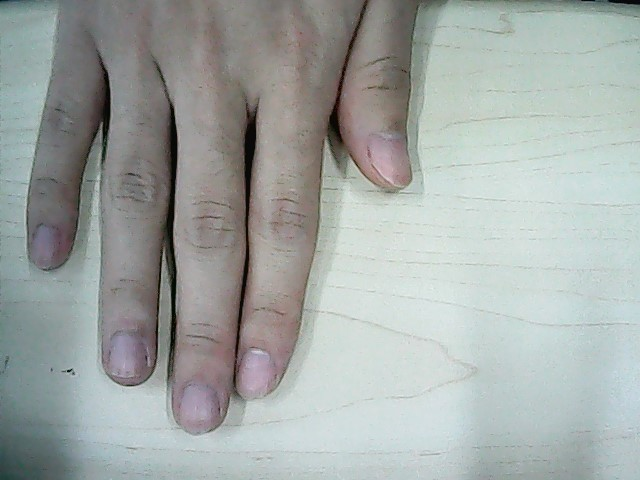nail: (367, 129, 415, 193), (177, 380, 222, 434), (107, 328, 150, 384), (236, 347, 278, 397), (25, 219, 61, 268)
